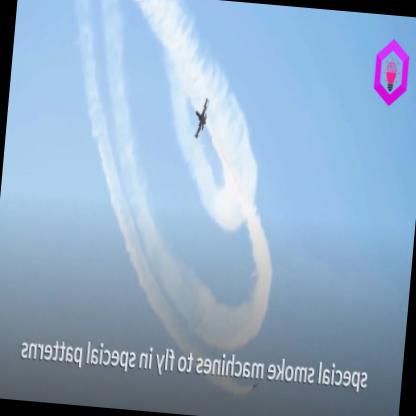plane: (187, 93, 215, 149)
